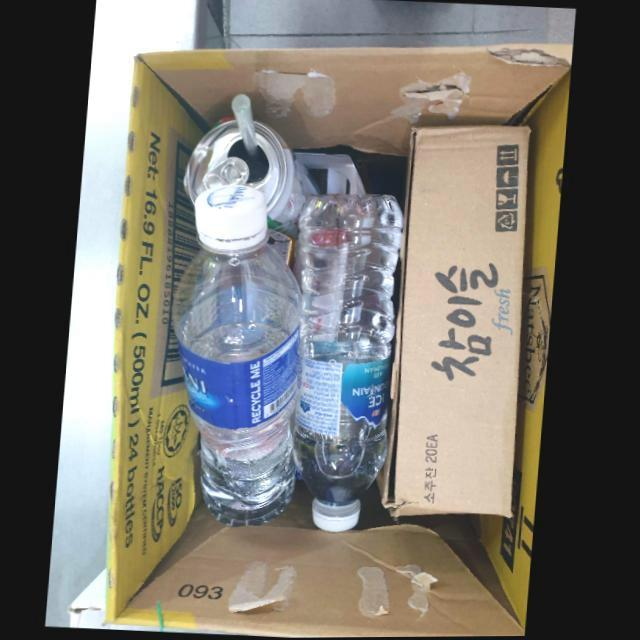aluminum: (188, 116, 322, 242)
cardboard: (381, 121, 534, 518)
plastic_bottle: (175, 183, 304, 526), (296, 190, 406, 530)
